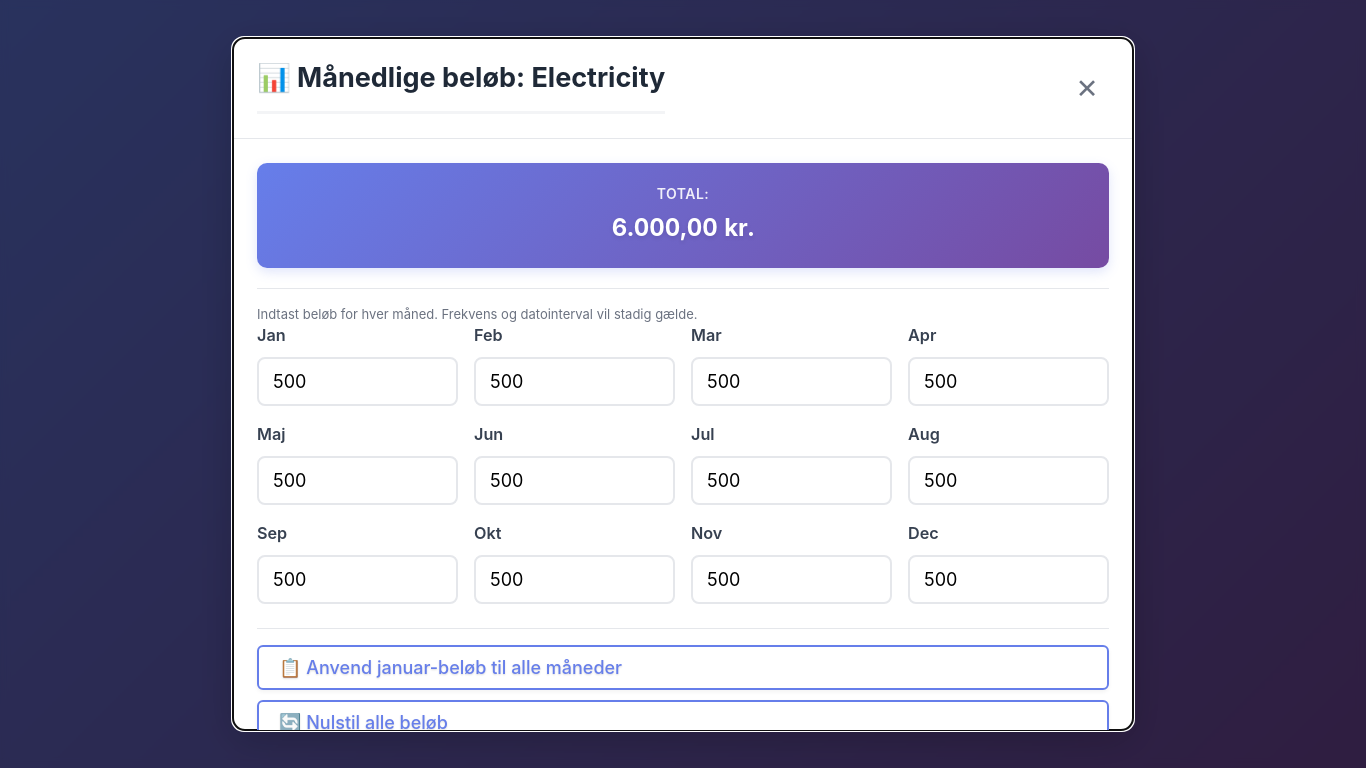
Test: MonthlyAmountsModal › shows validation error for negative amounts
Replace the text in the field labelled "Jan" with "-100" at (358, 381), box [257, 357, 458, 406]
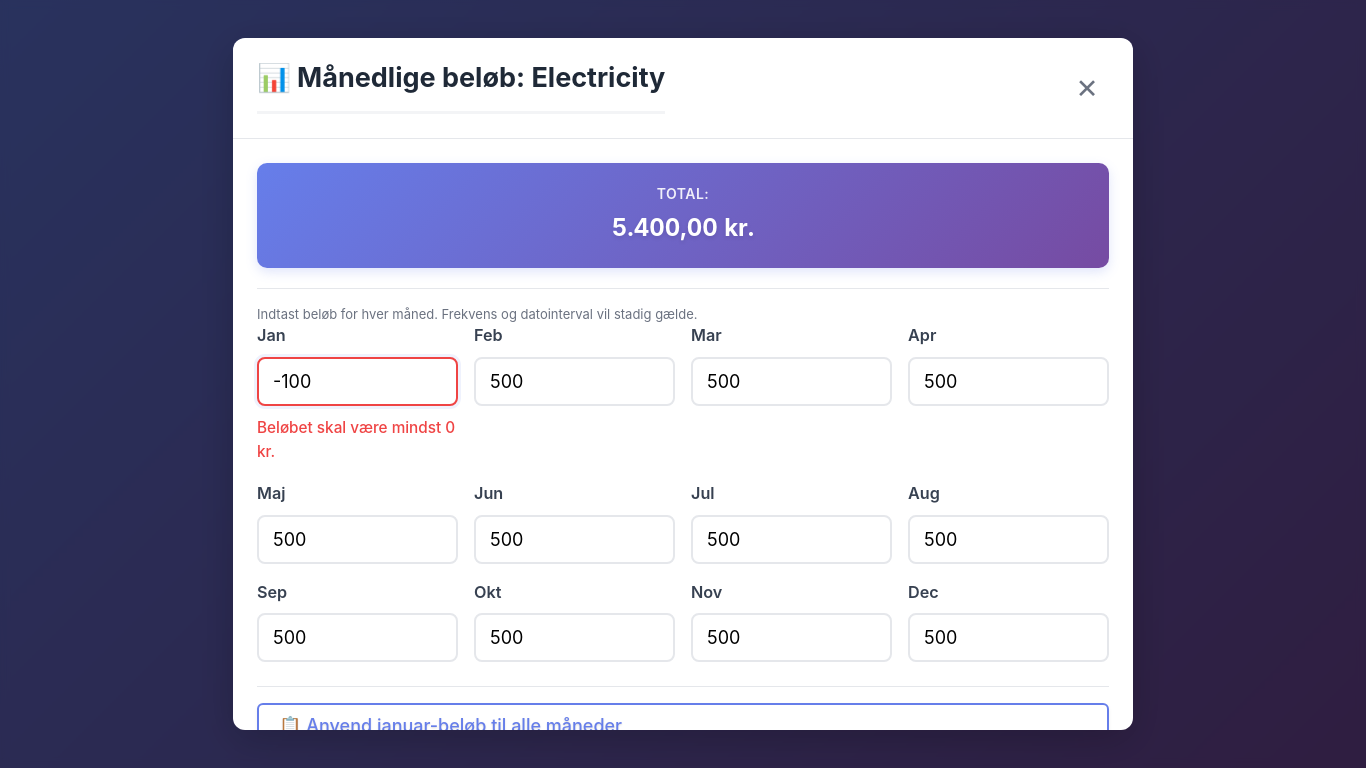
expect the text "Beløbet skal være mindst 0 kr." is shown: met, box [257, 416, 458, 465]
